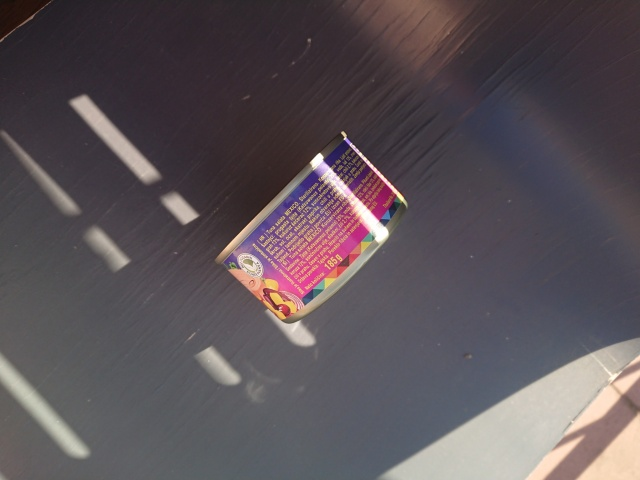Giana Tuna Salad Mexico 185g: (212, 124, 411, 328)
